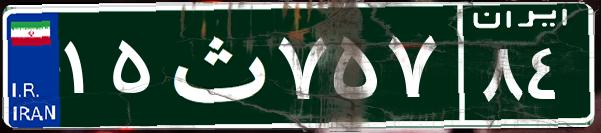1: (57, 26, 110, 107)
4: (525, 38, 570, 115)
5: (330, 28, 385, 110), (110, 28, 158, 105)
7: (385, 28, 445, 110), (273, 28, 330, 110)
8: (475, 38, 525, 113)
ث: (158, 15, 273, 115)
